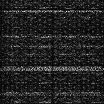lte: (1, 64, 104, 71), (1, 10, 104, 12), (1, 35, 104, 37)
